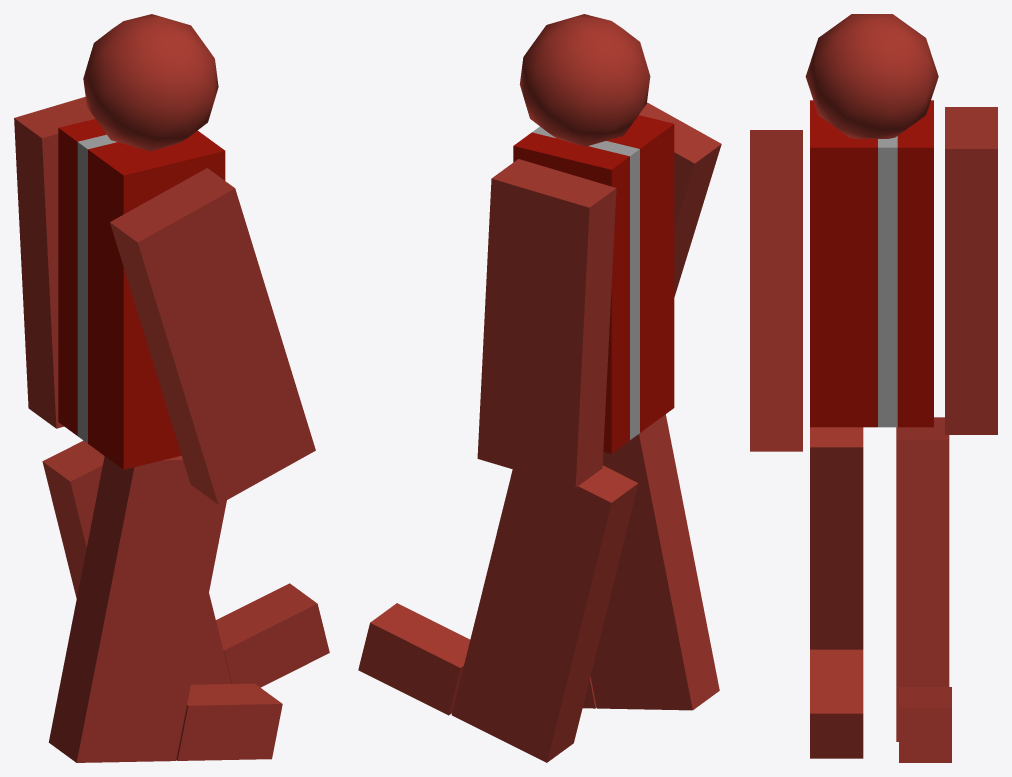
Rendered from player_000047.obj.
The picture shows the model from 3 angles, left to right: view 1: azimuth 30°, elevation 25°; view 2: azimuth 150°, elevation 25°; view 3: azimuth 270°, elevation 25°; orthographic projection. The views are drawn at different scales.
Parts seen in each view (by area): view 1: Cube.013, Cube.010, Cube.007, Icosphere.001, Cube.012, Cube.009, Cube.011, Cube.008; view 2: Cube.012, Cube.008, Cube.010, Cube.007, Icosphere.001, Cube.009, Cube.013; view 3: Cube.007, Cube.012, Cube.013, Cube.008, Icosphere.001, Cube.010, Cube.011, Cube.009.
Part boxes in pixels (x1=…): Cube.013: x1=110, y1=168, x2=315, y2=504; Cube.010: x1=48, y1=455, x2=226, y2=762; Cube.007: x1=58, y1=119, x2=225, y2=469; Icosphere.001: x1=83, y1=14, x2=218, y2=151; Cube.012: x1=14, y1=96, x2=95, y2=428; Cube.009: x1=216, y1=583, x2=329, y2=687; Cube.011: x1=176, y1=683, x2=282, y2=760; Cube.008: x1=42, y1=440, x2=231, y2=684; Cube.012: x1=477, y1=159, x2=616, y2=487; Cube.008: x1=451, y1=465, x2=638, y2=762; Cube.010: x1=590, y1=414, x2=719, y2=710; Cube.007: x1=513, y1=115, x2=674, y2=453; Icosphere.001: x1=519, y1=14, x2=650, y2=146; Cube.009: x1=358, y1=603, x2=469, y2=715; Cube.013: x1=639, y1=102, x2=721, y2=296; Cube.007: x1=810, y1=100, x2=933, y2=427; Cube.012: x1=945, y1=107, x2=997, y2=434; Cube.013: x1=750, y1=130, x2=802, y2=451; Cube.008: x1=896, y1=417, x2=949, y2=741; Icosphere.001: x1=805, y1=14, x2=938, y2=138; Cube.010: x1=810, y1=427, x2=863, y2=649; Cube.011: x1=810, y1=649, x2=863, y2=758; Cube.009: x1=899, y1=687, x2=951, y2=762.
Size of the model in its own units: 1.21 by 2.86 by 0.9137.
